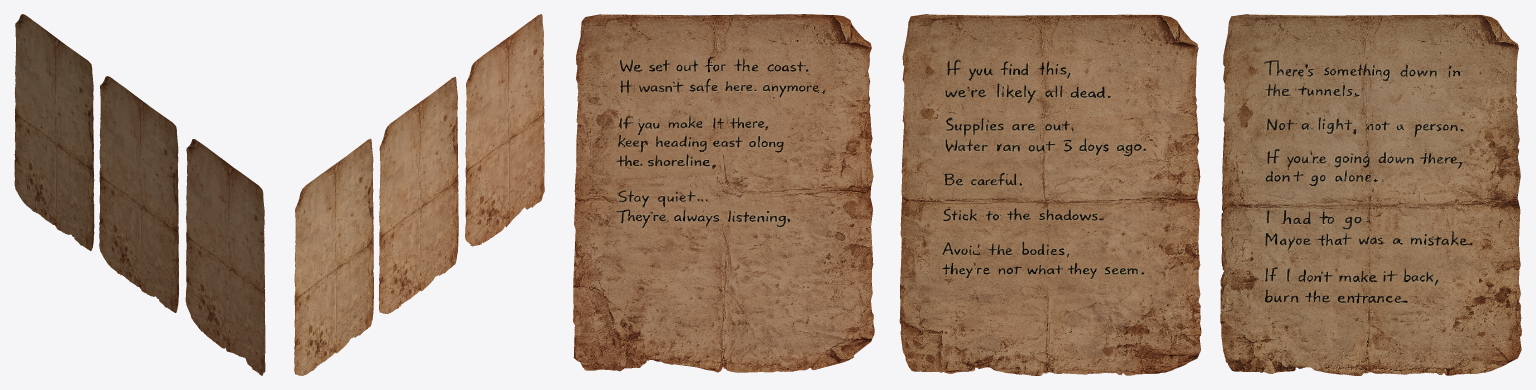
Rendered from Papers.fbx.
3 renders of one model, left to right at view 1: azimuth 30°, elevation 25°; view 2: azimuth 150°, elevation 25°; view 3: azimuth 270°, elevation 25°, orthographic. The views are drawn at different scales.
Parts seen in each view (by area): view 1: 3, 2, 1; view 2: 2, 3, 1; view 3: 2, 3, 1.
Part boxes in pixels (x1,y1,x2,y2): 3: (14, 14, 94, 250); 2: (99, 76, 178, 312); 1: (185, 139, 265, 375); 2: (378, 76, 458, 313); 3: (294, 138, 373, 375); 1: (465, 14, 544, 246); 2: (899, 14, 1201, 375); 3: (1220, 14, 1521, 375); 1: (573, 14, 874, 372).
Size of the model in its own units: 0.3902 by 314 by 747.
3 materials, 3 textured.
